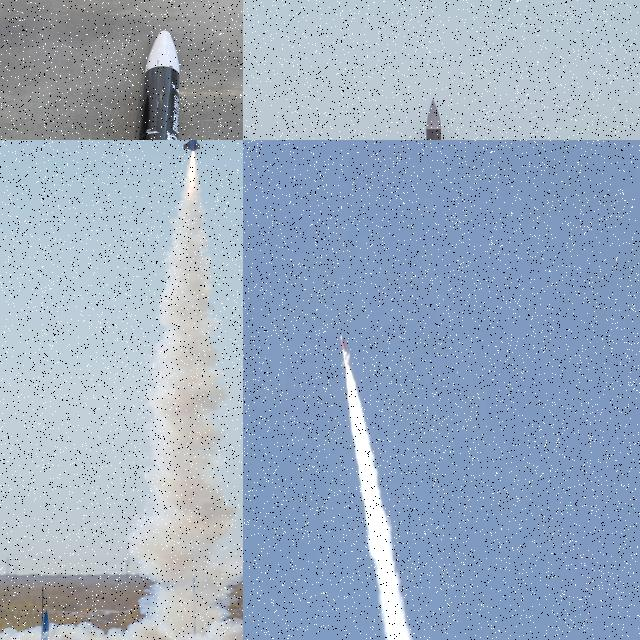Rocket: (410, 99, 458, 140), (35, 609, 55, 640), (340, 333, 352, 364), (182, 140, 201, 152)
